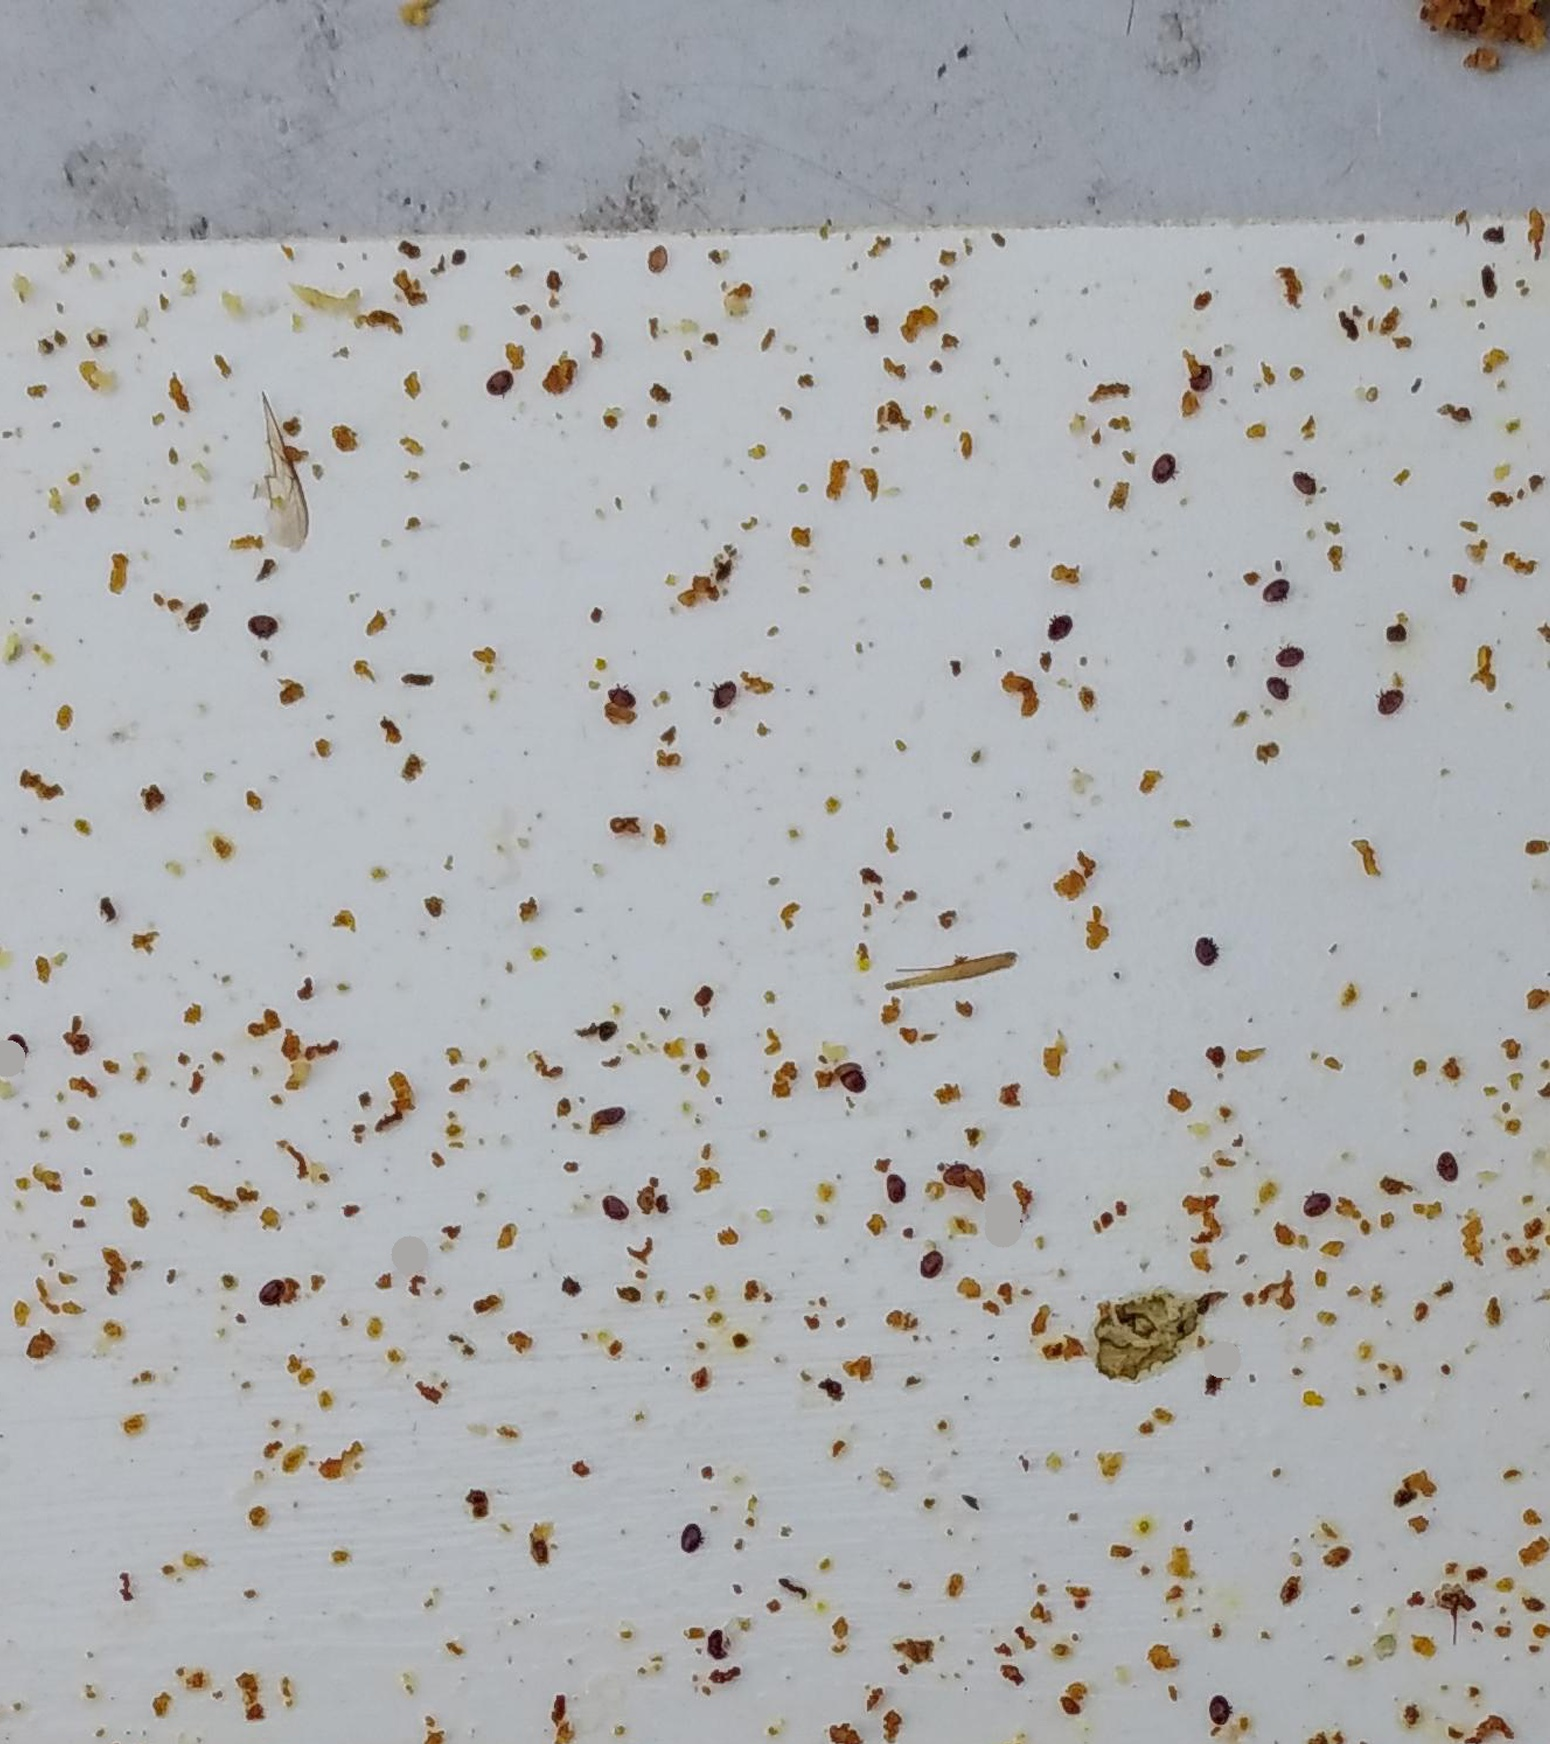Varroa: (640, 242, 673, 275), (592, 1101, 624, 1134), (708, 679, 738, 709), (1379, 687, 1409, 716), (1258, 576, 1290, 604), (1291, 470, 1320, 500), (946, 1156, 975, 1185), (257, 1277, 286, 1306), (702, 1627, 732, 1654), (1432, 1153, 1459, 1182), (682, 1527, 708, 1556), (1189, 938, 1215, 965), (1191, 360, 1215, 389), (841, 1066, 866, 1092), (1047, 616, 1071, 642), (1207, 1701, 1233, 1725), (1157, 455, 1182, 479), (6, 1028, 30, 1051), (610, 684, 634, 707), (1266, 675, 1290, 698), (1276, 646, 1299, 672), (254, 615, 278, 637), (886, 1177, 907, 1203), (488, 371, 509, 396), (922, 1252, 944, 1274), (607, 1194, 628, 1218), (1308, 1191, 1327, 1215), (1008, 1215, 1022, 1226)
